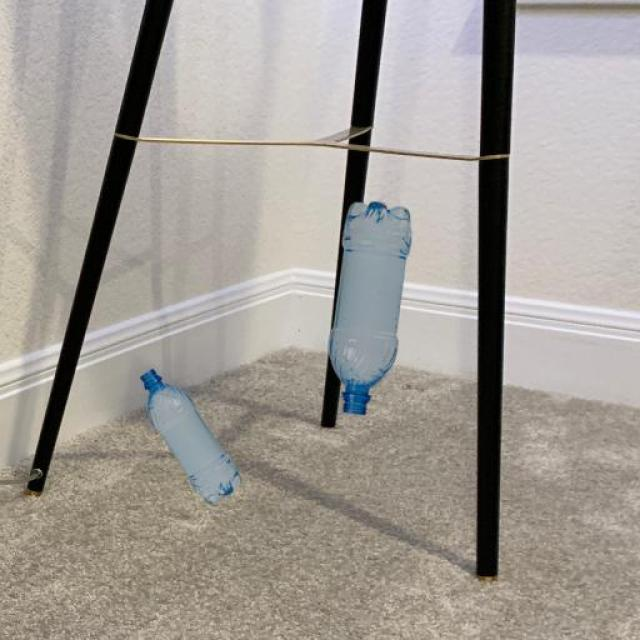bottle: (325, 199, 413, 415), (138, 366, 242, 505)
